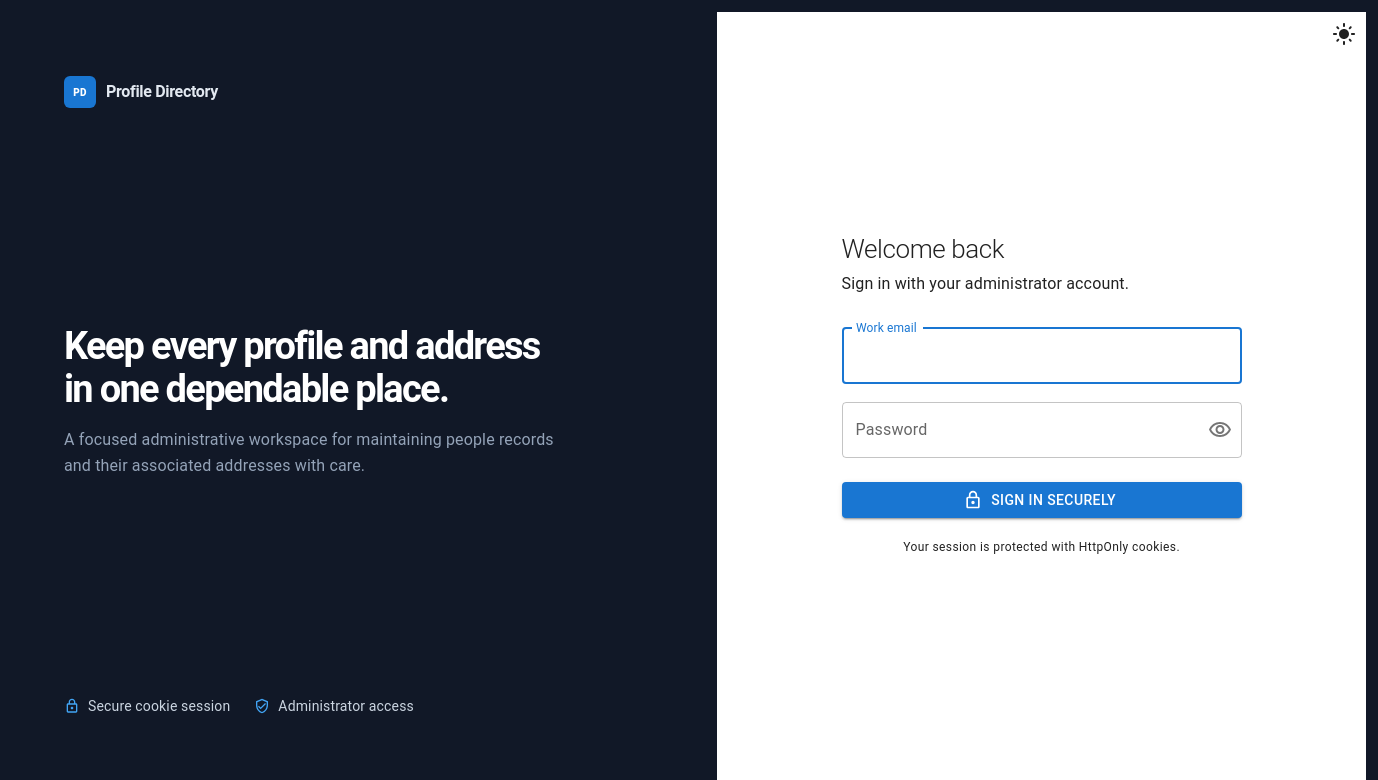
Test: LoginPage › provides an accessible password visibility toggle without changing autocomplete
This screenshot has width=1378, height=780.
What coordinates should you click on to do the following:
click the button named "Show password"
I would click on:
 (1220, 430)
Its box is [1200,410,1240,450].
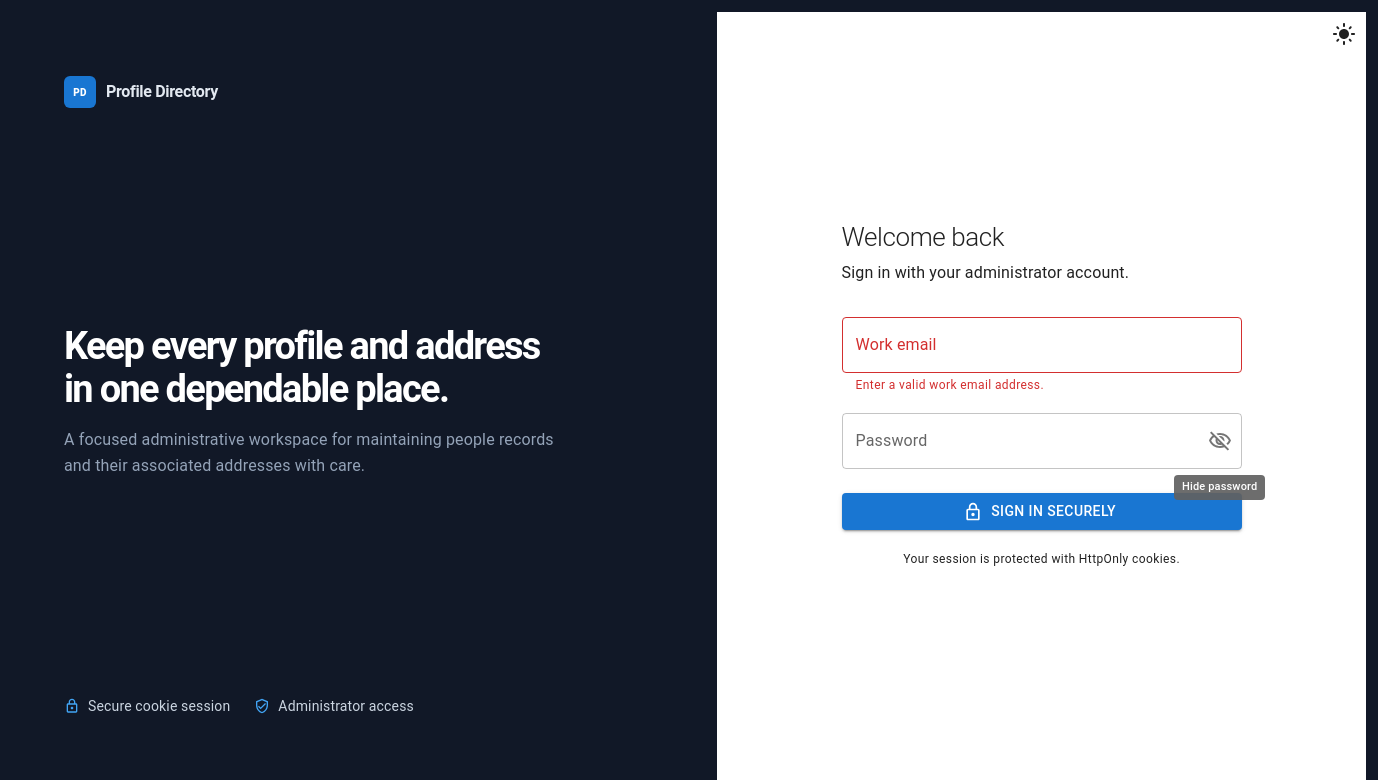
Now the button named "Hide password" is shown, box [1200,421,1240,461]
